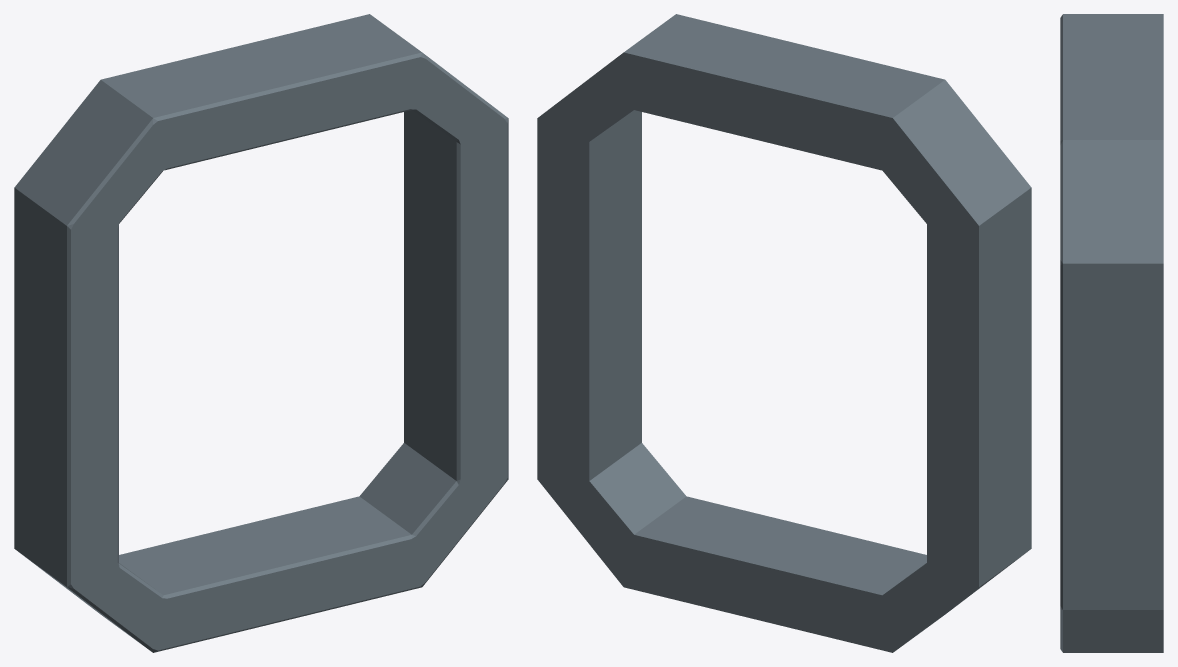
The model's file is DoorFrame.fbx.
The picture shows the model from 3 angles, left to right: view 1: azimuth 30°, elevation 25°; view 2: azimuth 150°, elevation 25°; view 3: azimuth 270°, elevation 25°; orthographic projection. The views are drawn at different scales.
Parts seen in each view (by area): view 1: Frame; view 2: Frame; view 3: Frame.
Boxes of the visible parts, <box> form: Frame: <box>14,14,508,652</box>; Frame: <box>537,14,1031,652</box>; Frame: <box>1060,14,1163,652</box>.
Size of the model in its own units: 301 by 348 by 63.67.
